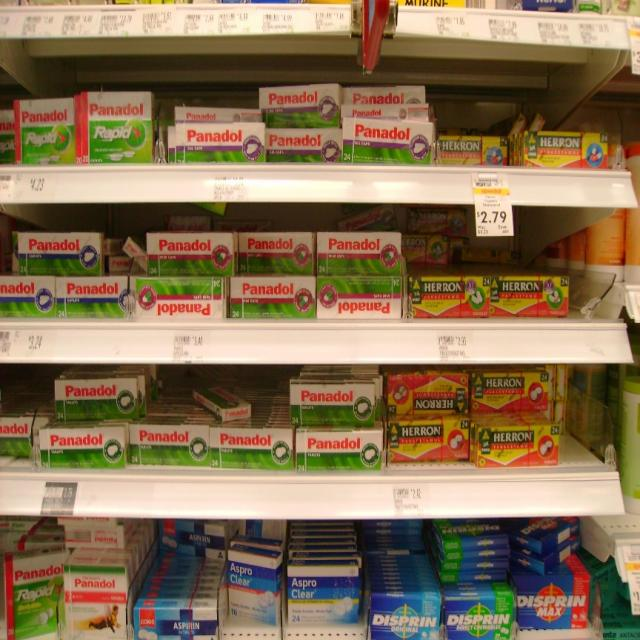q31: (127, 421, 221, 473), (15, 223, 103, 275), (144, 221, 233, 272), (41, 423, 138, 469), (286, 377, 379, 424), (134, 280, 228, 325), (308, 276, 408, 318), (57, 375, 151, 418), (316, 227, 398, 275), (294, 429, 380, 474), (84, 91, 158, 141), (214, 419, 293, 465), (13, 97, 86, 144), (57, 277, 134, 321), (168, 124, 267, 158), (232, 223, 318, 262), (353, 119, 440, 156), (233, 233, 317, 271), (232, 280, 316, 318), (261, 81, 342, 119), (266, 130, 344, 159), (0, 279, 55, 313)
